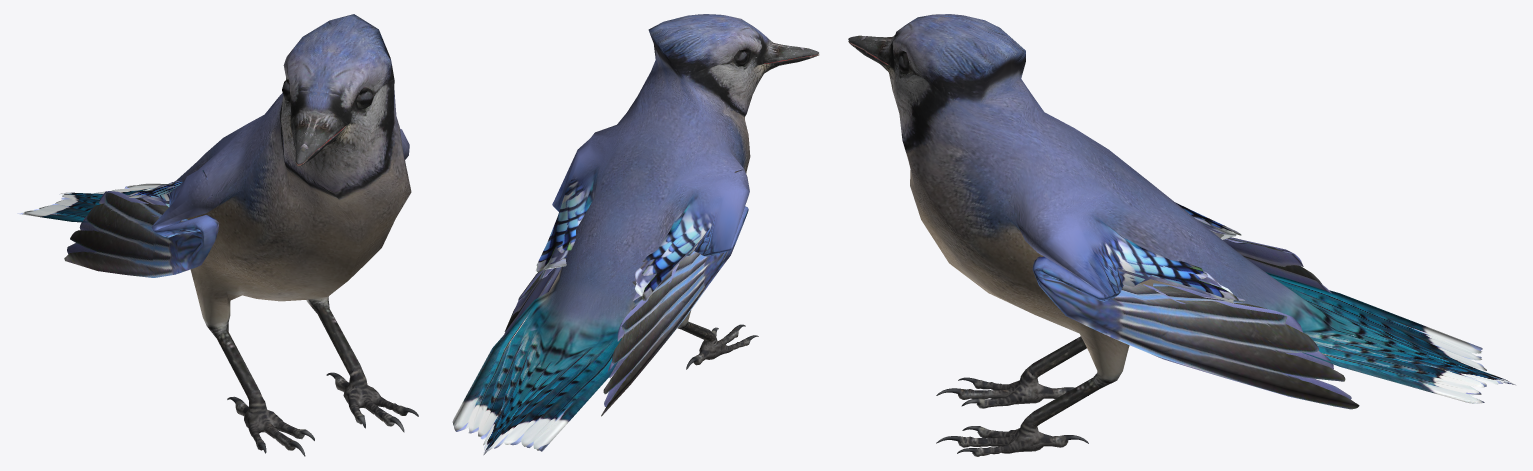
The picture shows the model from 3 angles, left to right: view 1: azimuth 30°, elevation 25°; view 2: azimuth 150°, elevation 25°; view 3: azimuth 270°, elevation 25°; orthographic projection. The views are drawn at different scales.
Visible parts, largest first — view 1: bluejay_mesh_0; view 2: bluejay_mesh_0; view 3: bluejay_mesh_0.
Part boxes in pixels (x1,y1,x2,y2): bluejay_mesh_0: (17,14,418,456); bluejay_mesh_0: (452,14,819,455); bluejay_mesh_0: (848,14,1515,456).
Size of the model in its own units: 0.1123 by 0.186 by 0.2839.
1 material, 1 textured.
